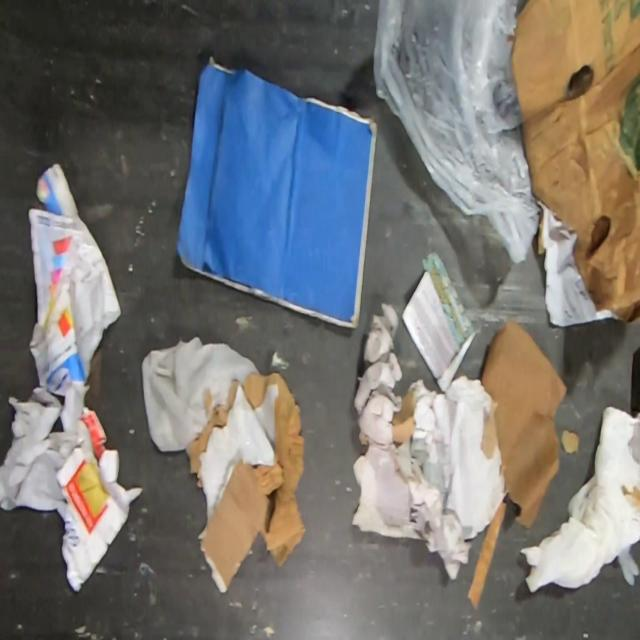cardboard: (170, 49, 378, 334), (390, 316, 567, 608), (509, 0, 640, 329), (183, 371, 306, 592), (560, 424, 581, 455)
soft_plastic: (372, 0, 541, 264)
